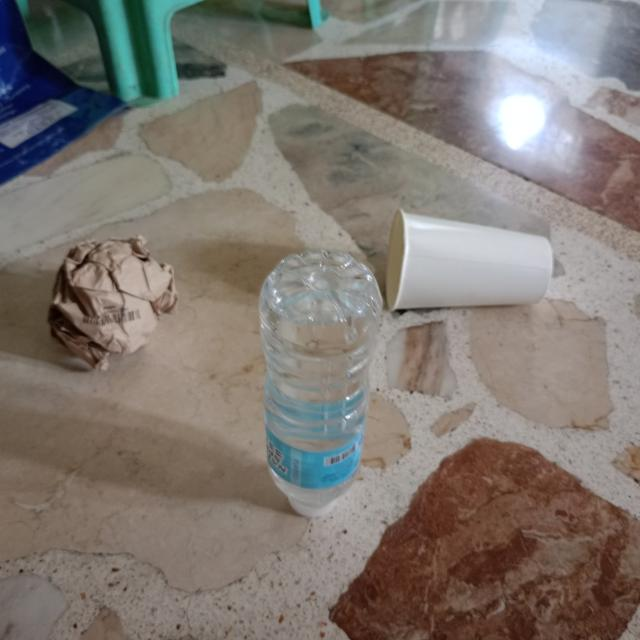Anorganik: (245, 237, 389, 528)
Organik: (39, 224, 186, 381), (375, 200, 559, 324)
